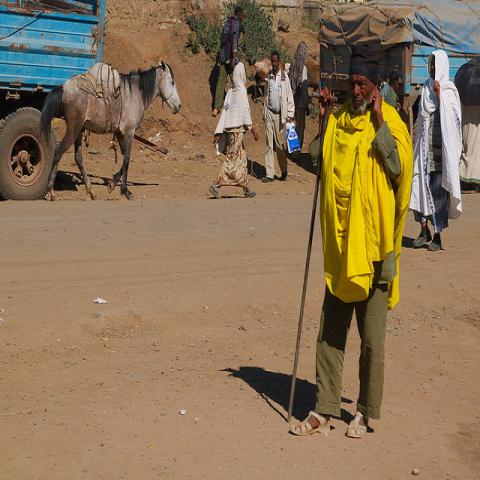truck: (0, 1, 106, 202), (316, 0, 479, 126)
